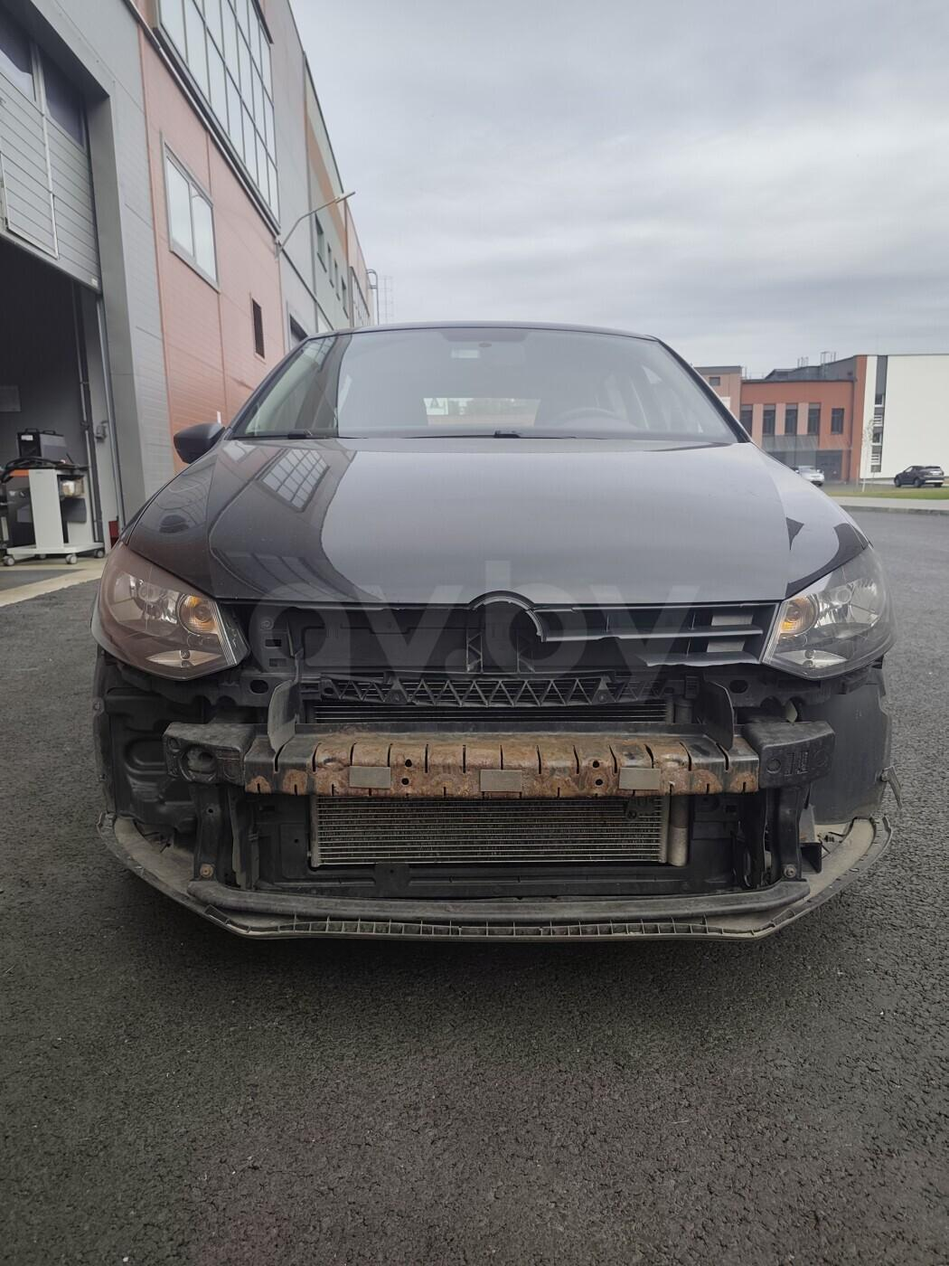Polo_2009-2015: (29, 291, 922, 981)
